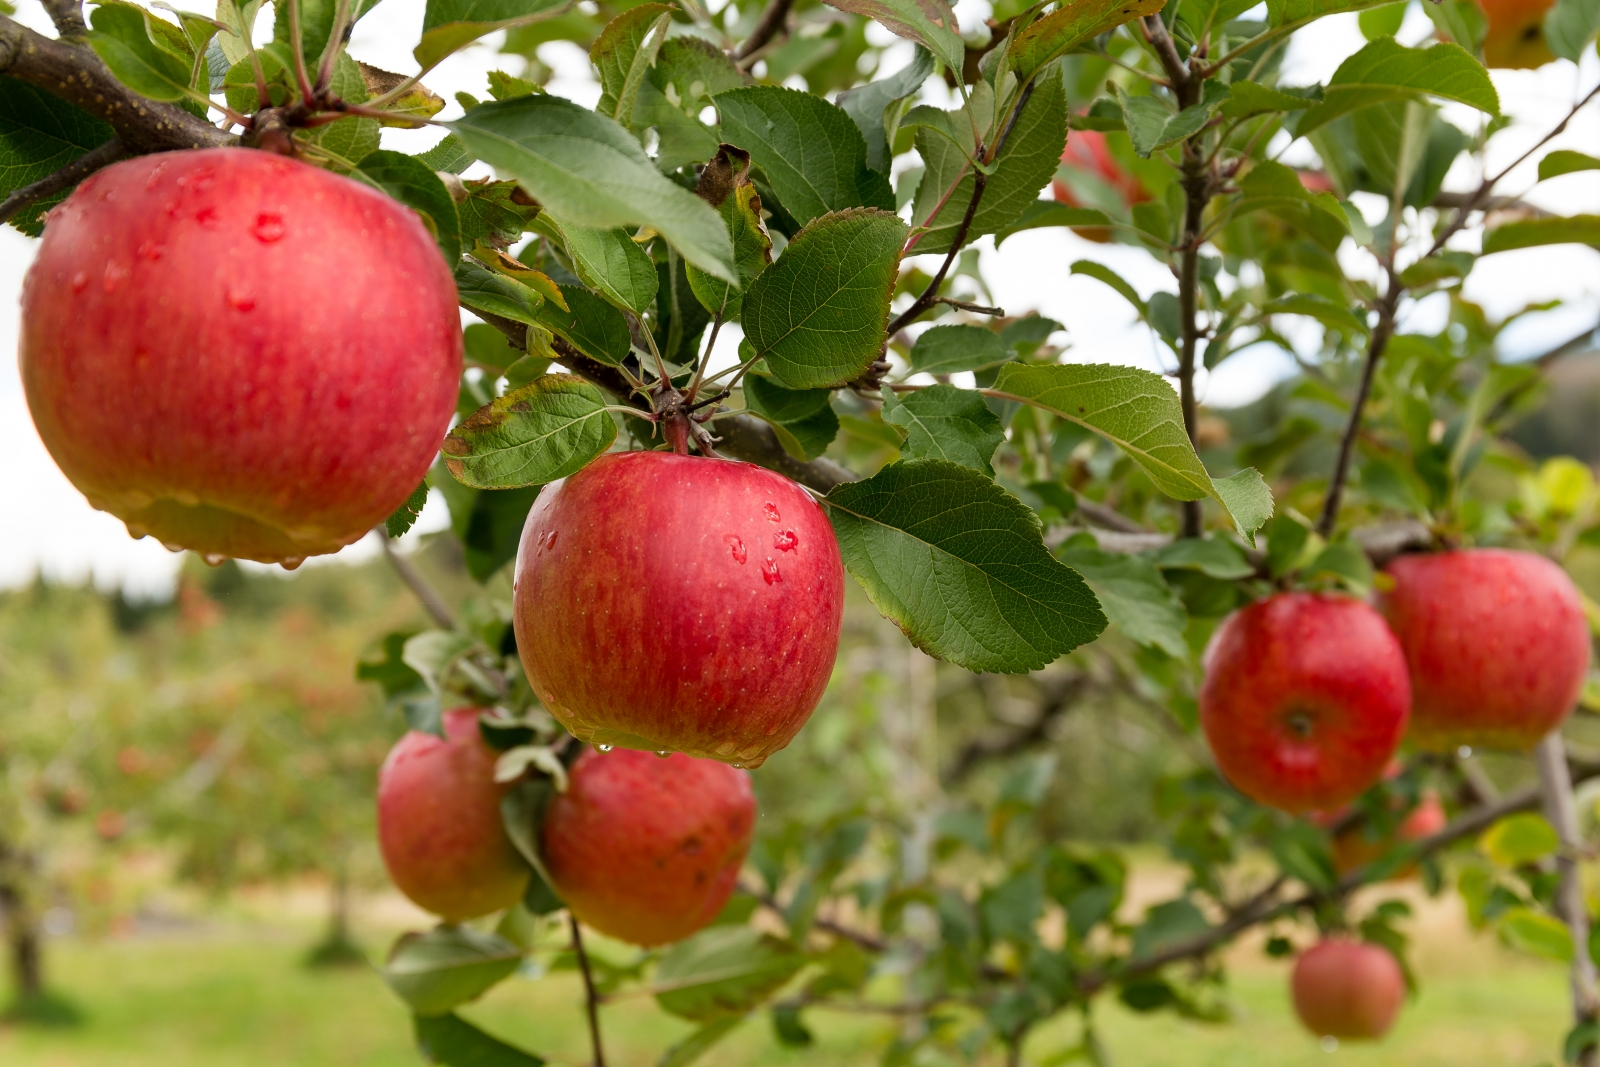apple: (17, 96, 475, 573), (504, 404, 868, 766), (1206, 586, 1417, 820), (1371, 538, 1599, 742), (382, 707, 544, 924), (1289, 938, 1424, 1035), (1430, 1, 1600, 76)
